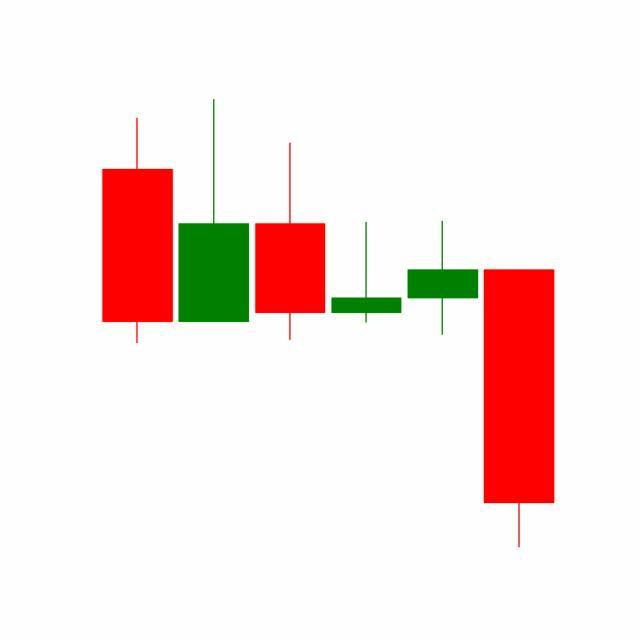Hanging Man: (404, 220, 482, 337)
